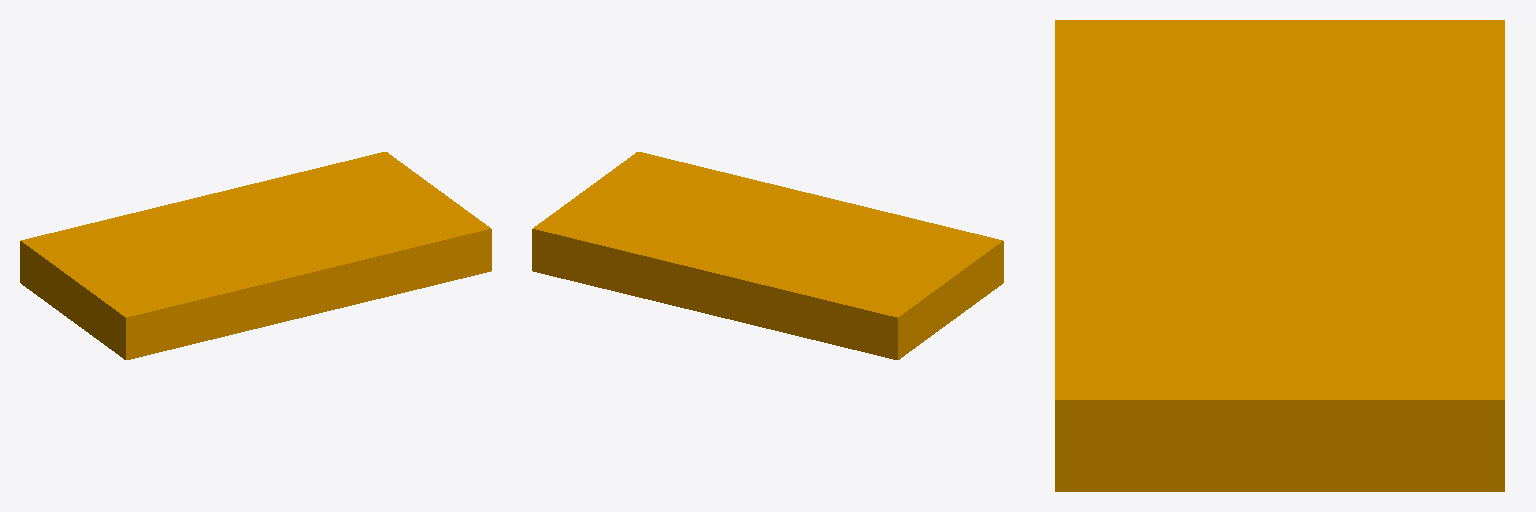
The robot description file, URDF, robot "surface":
<?xml version="1.0"?>
<robot name="surface">
  <link name="base_link">

    <collision>
      <geometry>
        <box size="8.94 4.47 1"/>
      </geometry>
    </collision>

    <inertial>
      <mass value="50"/>
    	<inertia ixx="108" ixy="0" ixz="0" iyy="421" iyz="0" izz="521"/>
  	</inertial>

    <visual>
      <geometry>
        <box size="8.94 4.47 1"/>
      </geometry>
    </visual>

  </link>
</robot>

--- Facts derived from the render (not from the file) ---
Views: 3 orthographic renders of the robot side by side, from view 1: azimuth 30°, elevation 25°; view 2: azimuth 150°, elevation 25°; view 3: azimuth 270°, elevation 25°.
Robot: surface — 1 links, 0 joints (none); root link base_link; default pose: all joints at 0.
Visible links, largest first — view 1: base_link; view 2: base_link; view 3: base_link.
Link boxes in pixels (box(x1,y1,x2,y2)): base_link: box(20, 152, 491, 359); base_link: box(532, 152, 1003, 359); base_link: box(1055, 20, 1504, 491).
Bounding box of the posed robot: 8.94 × 4.47 × 1 m (x, y, z).
Geometry: primitives only (box / cylinder / sphere), no mesh files.